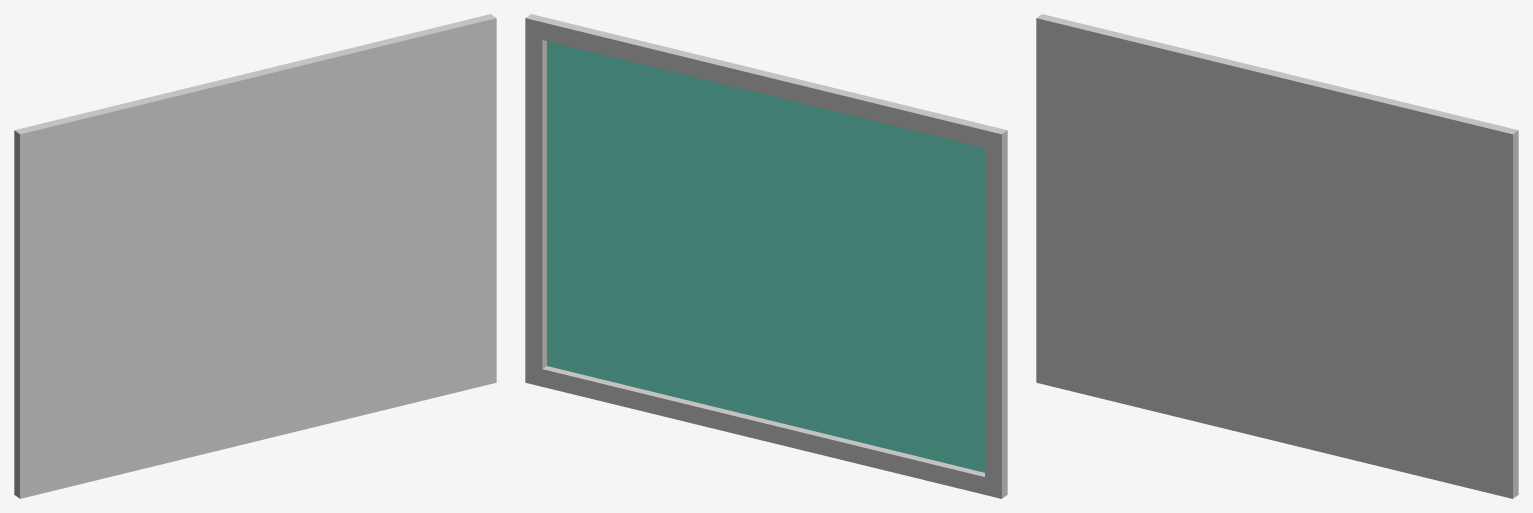
Rendered from ventana.fbx.
The picture shows the model from 3 angles, left to right: view 1: azimuth 30°, elevation 25°; view 2: azimuth 150°, elevation 25°; view 3: azimuth 330°, elevation 25°; orthographic projection.
Visible parts, largest first — view 1: Box002; view 2: Object001, Box002; view 3: Box002.
Part boxes in pixels (box(x1,y1,x2,y2)): Box002: box(14, 14, 496, 498); Object001: box(547, 41, 984, 472); Box002: box(525, 14, 1007, 498); Box002: box(1036, 14, 1518, 498).
Bounding box in the file's own units: 54.9 × 40.15 × 1.13.
